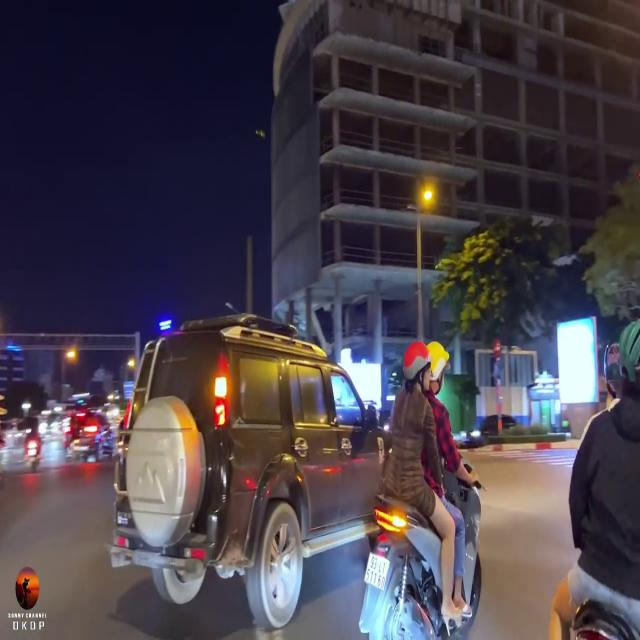bien_trang: (361, 545, 393, 596)
